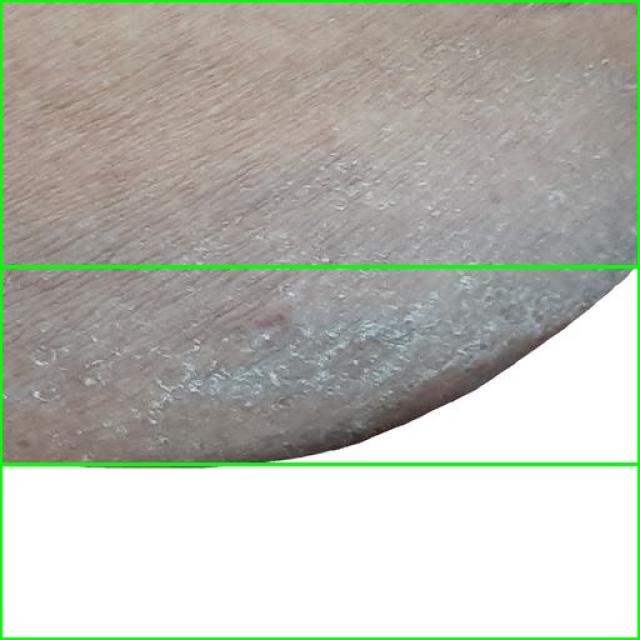Tinea Corporis: (0, 0, 639, 464), (0, 266, 639, 639)
